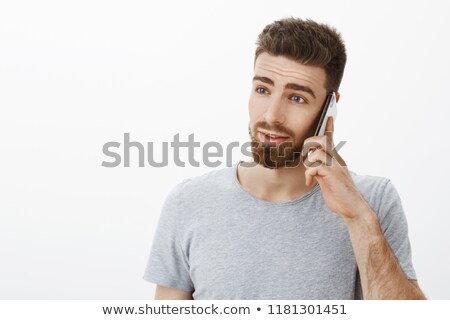phone: (316, 94, 355, 187)
talk: (249, 71, 369, 215)
